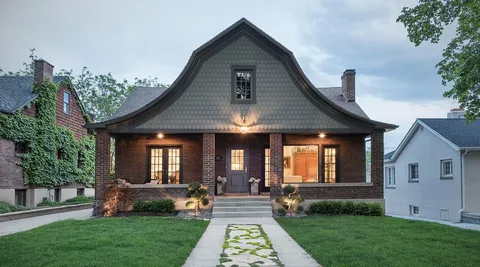private_hause: (121, 44, 378, 206)
